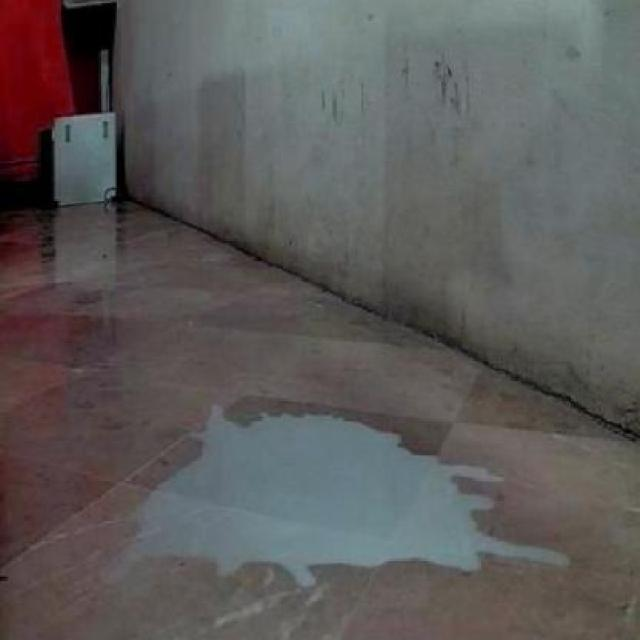spillage: (83, 397, 570, 596)
